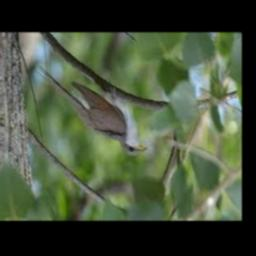Cuckoo: (36, 64, 148, 157)
